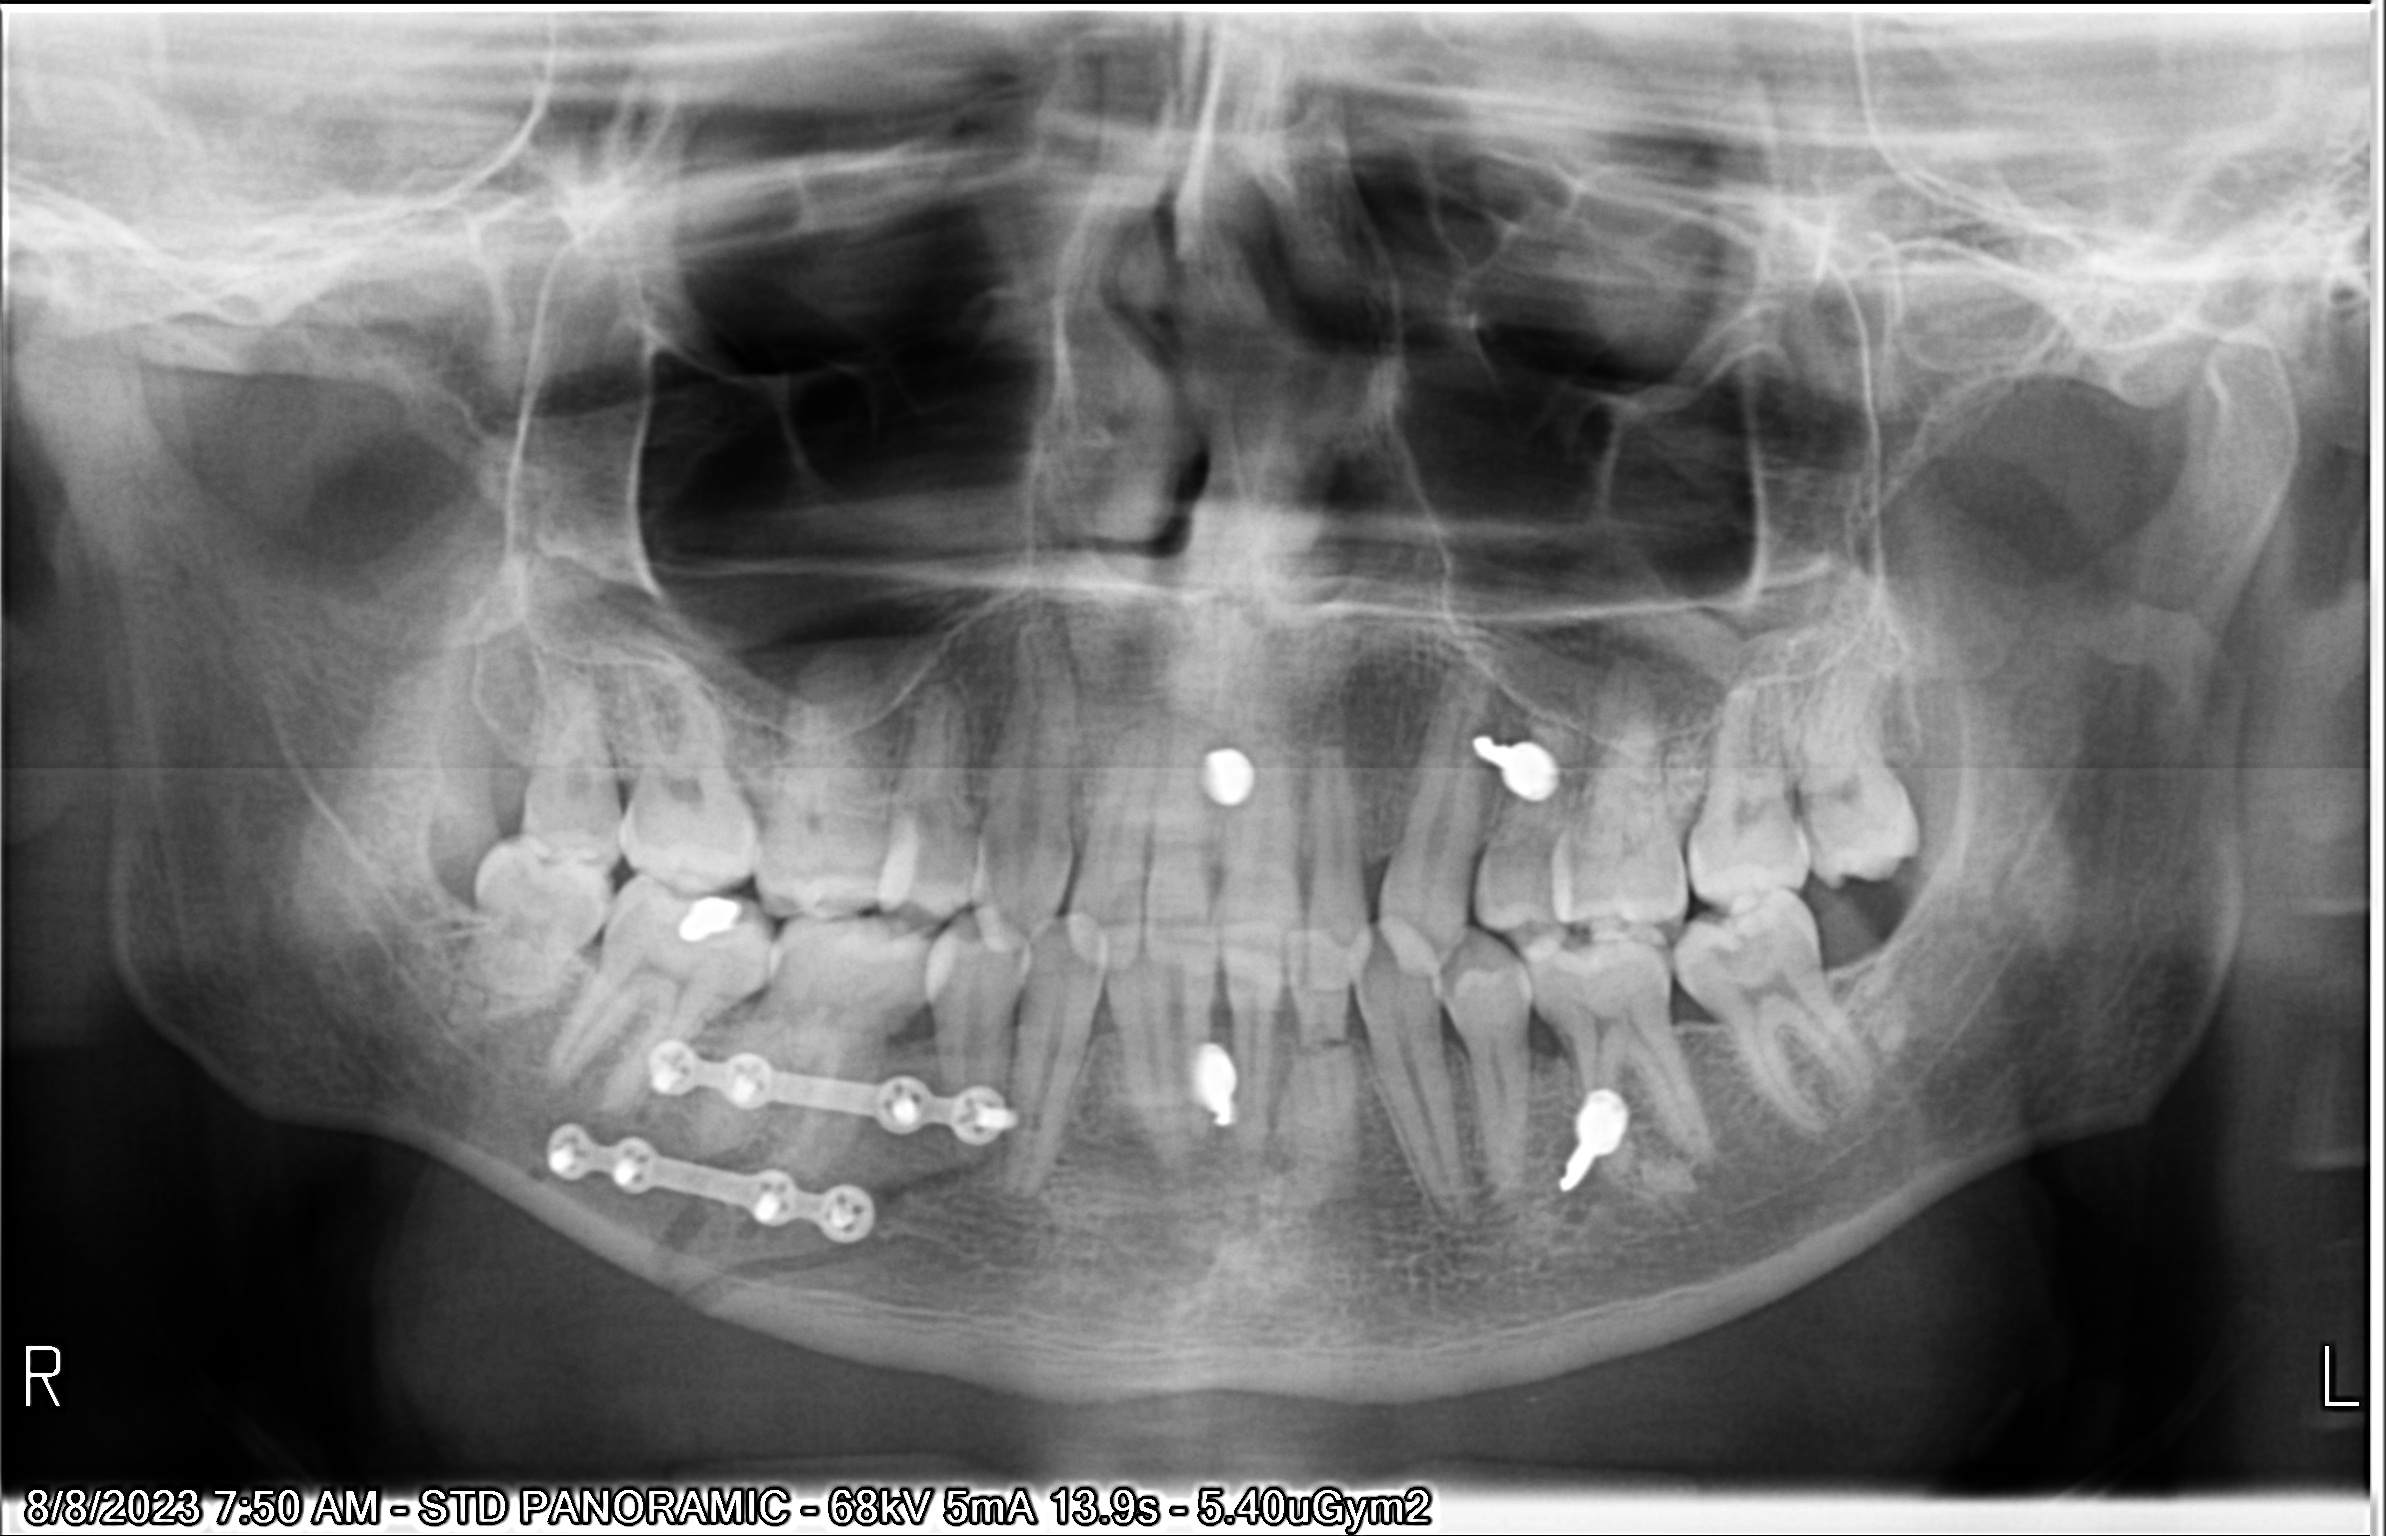CAR: (1546, 925, 1612, 976)
OBT: (656, 885, 763, 957)
SRD: (522, 1054, 1033, 1266), (1523, 1075, 1689, 1209), (1443, 724, 1642, 826), (1148, 1021, 1252, 1162), (1170, 715, 1280, 826)
